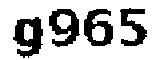5: (119, 6, 151, 48)
6: (84, 7, 114, 51)
9: (48, 7, 80, 48)
g: (13, 16, 45, 60)
